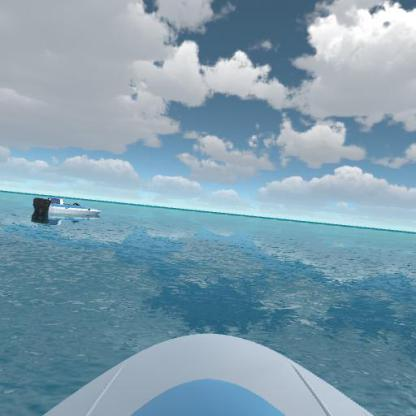usv1: (29, 193, 106, 228)
